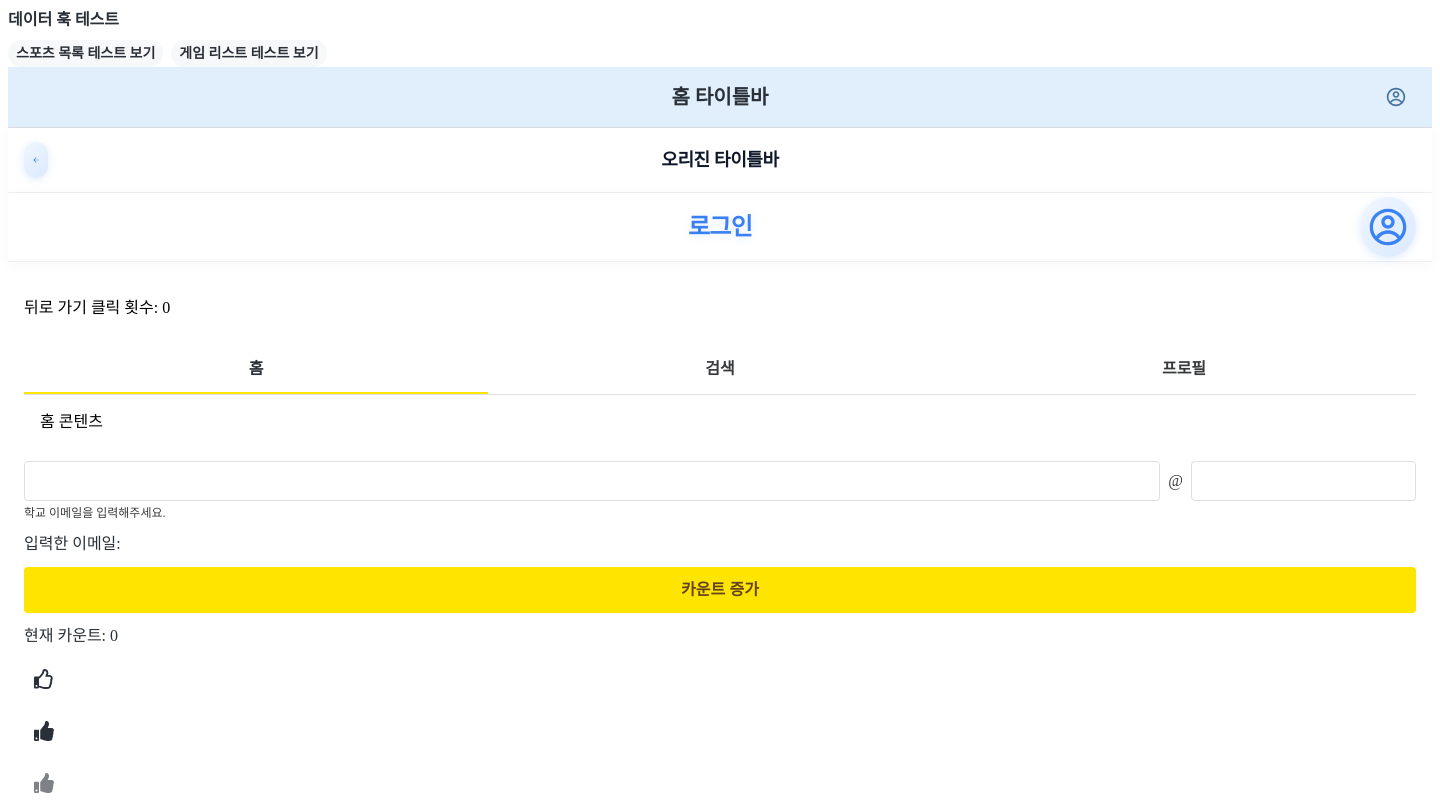
Test: ComponentTestPage › 버튼을 클릭하면 카운트를 증가시킨다
Click the button "카운트 증가" at (720, 590), box [24,567,1416,613]
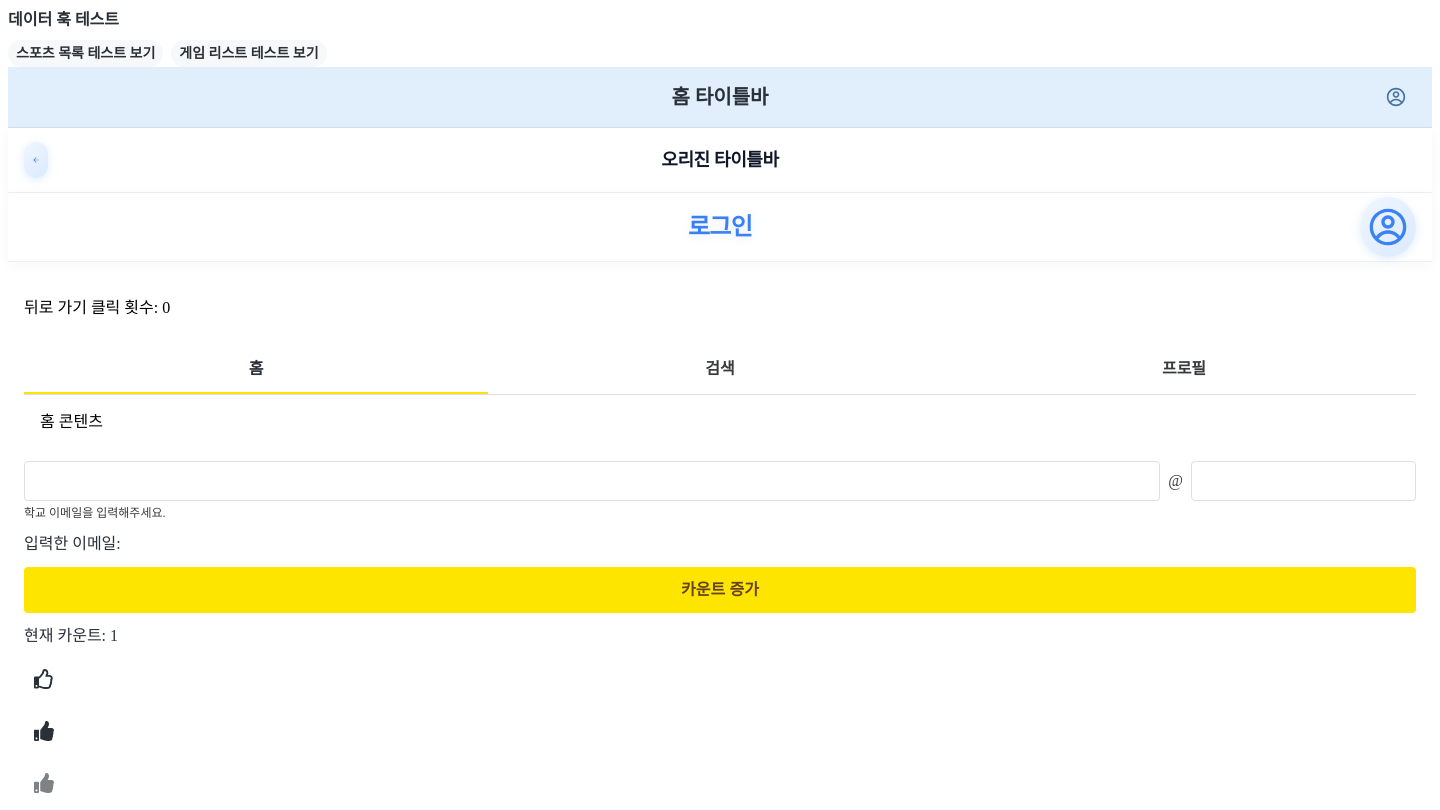
Expected: the text "현재 카운트: 1" is shown, [24,627,118,644]
